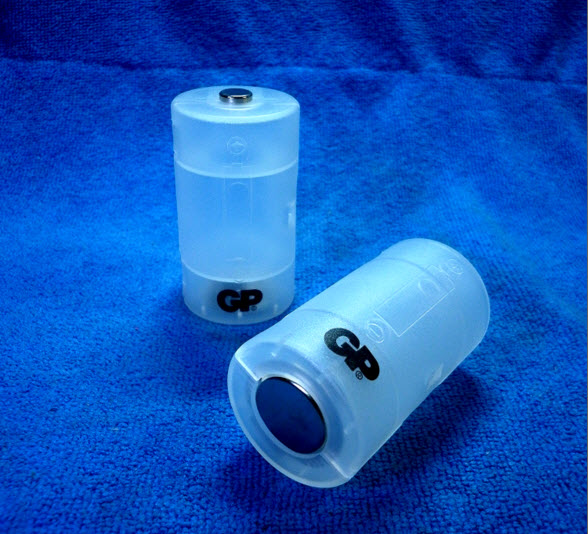Battery: (226, 235, 492, 489), (169, 84, 300, 326)
